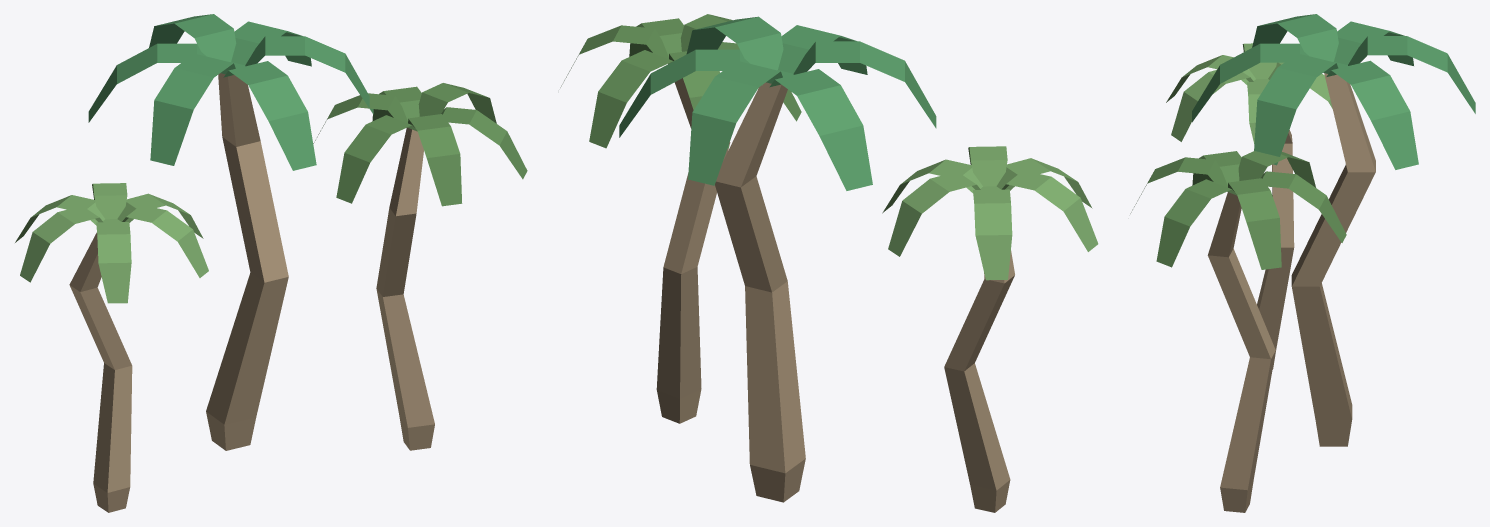
Rendered from veg_palm_grove.glb.
3 views of the same model, side by side, from view 1: azimuth 30°, elevation 25°; view 2: azimuth 150°, elevation 25°; view 3: azimuth 270°, elevation 25° (orthographic). The views are drawn at different scales.
Parts seen in each view (by area): view 1: clump_0, clump_2, clump_1; view 2: clump_0, clump_1, clump_2; view 3: clump_0, clump_2, clump_1.
Boxes of the visible parts, bbox=[...] form: clump_0: bbox=[88, 14, 373, 450]; clump_2: bbox=[313, 83, 527, 450]; clump_1: bbox=[15, 183, 208, 512]; clump_0: bbox=[619, 16, 936, 502]; clump_1: bbox=[882, 146, 1098, 512]; clump_2: bbox=[560, 14, 801, 423]; clump_0: bbox=[1192, 14, 1475, 446]; clump_2: bbox=[1130, 151, 1346, 512]; clump_1: bbox=[1166, 43, 1332, 369].
Size of the model in its own units: 2.15 by 1.71 by 1.37.
